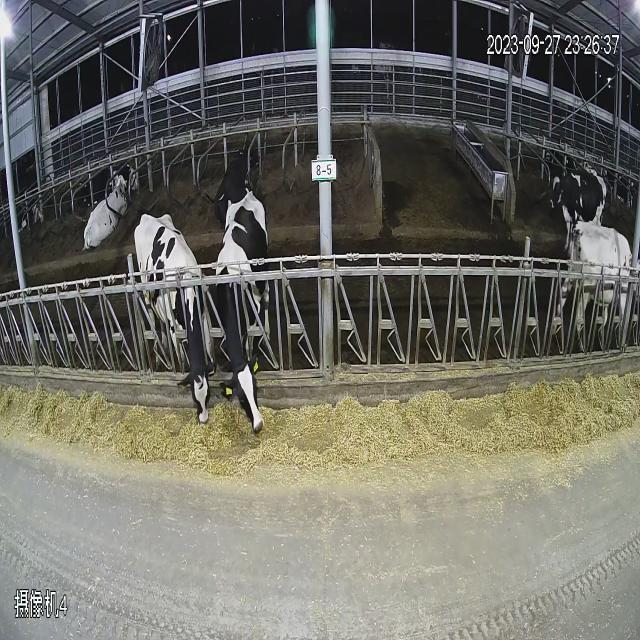feeding: (131, 202, 219, 440), (220, 185, 276, 438)
lying down: (85, 152, 129, 272)
standing: (546, 163, 625, 223)
